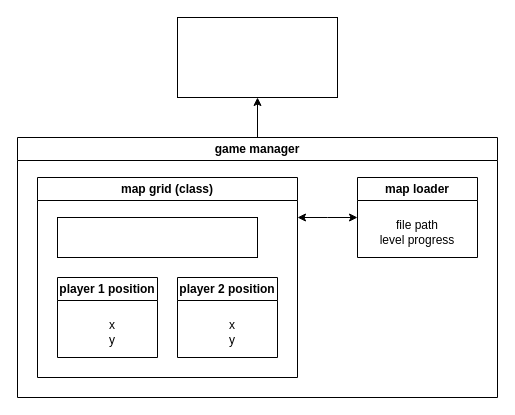
The diagram is 515 pixels wide and 415 high, and some of its shapes have lost their labels. Here are the shapes that lost their labels. From the top down, the centre of each, then its label:
(257,57): main
(157,237): grid (array 2D)
